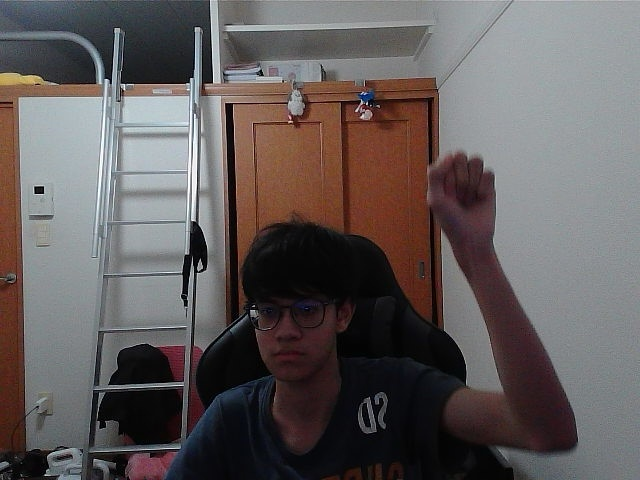closed_palm: (435, 157, 488, 239)
